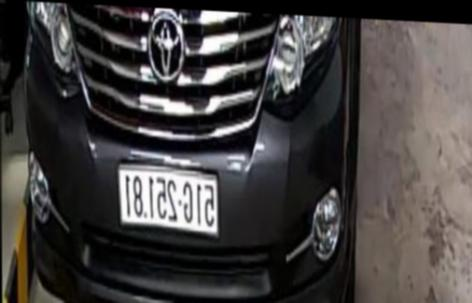License_Plate: (110, 161, 226, 242)
